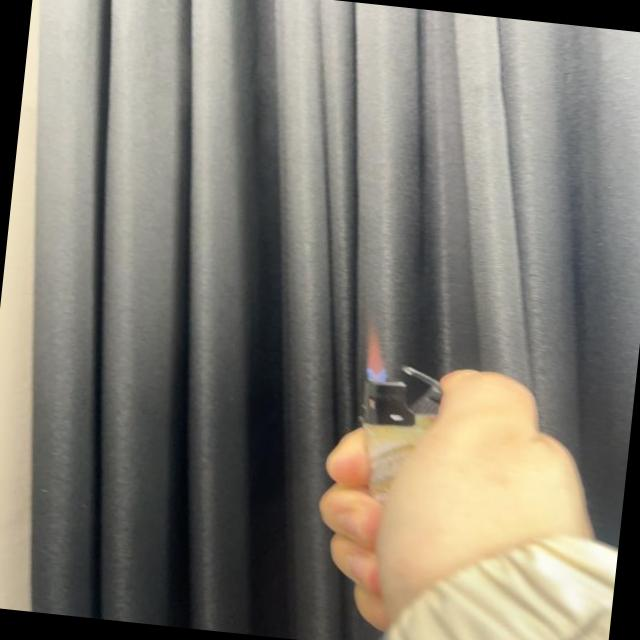Fire: (362, 322, 391, 380)
